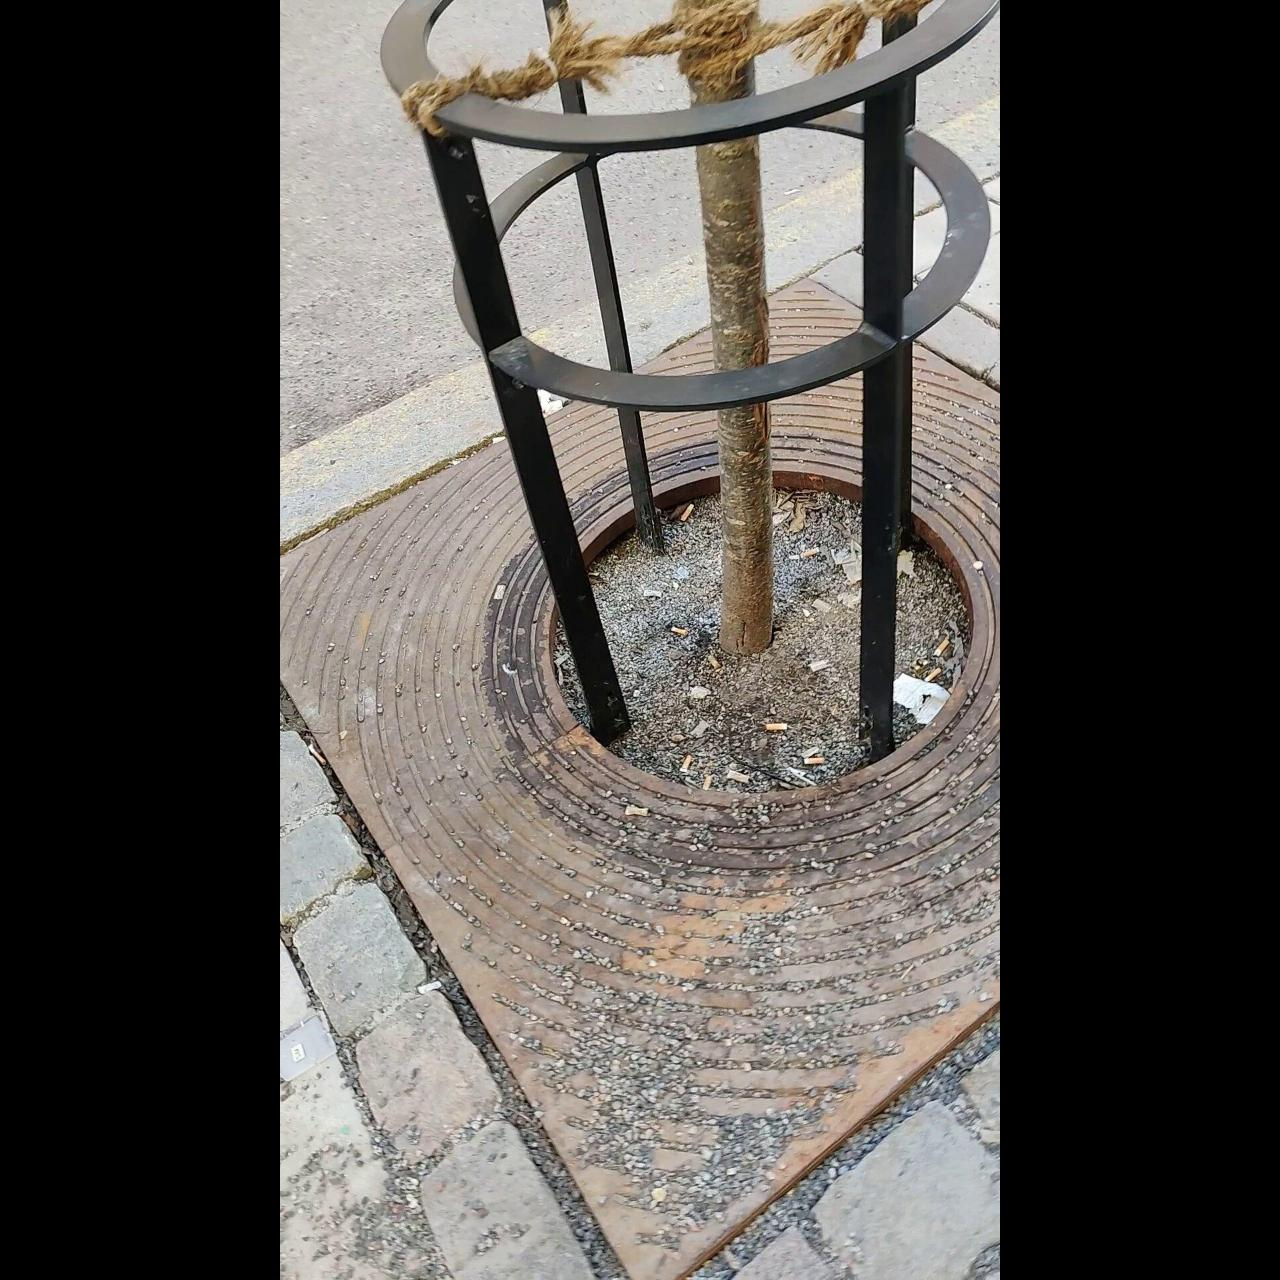cigarettes_butts: (302, 741, 327, 763), (799, 753, 826, 765), (679, 504, 695, 524), (673, 622, 692, 639), (934, 639, 949, 659), (765, 721, 790, 733), (679, 756, 695, 774), (728, 769, 753, 781), (624, 806, 651, 816), (926, 670, 940, 686), (803, 549, 819, 560), (712, 654, 721, 672), (702, 772, 712, 787)
others: (420, 980, 441, 994), (490, 584, 508, 600)
